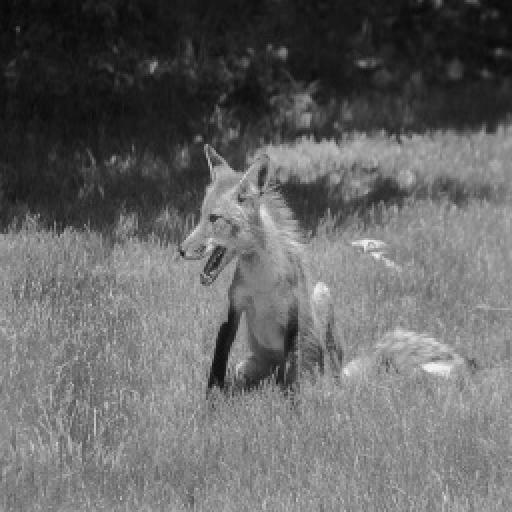zorro: (178, 146, 468, 396)
